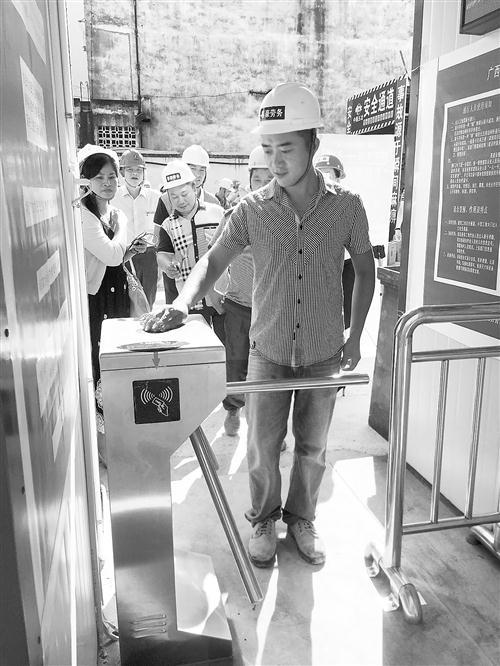helmet: (258, 83, 326, 137), (117, 145, 150, 174), (165, 164, 195, 194), (242, 145, 270, 175), (186, 147, 216, 172)
